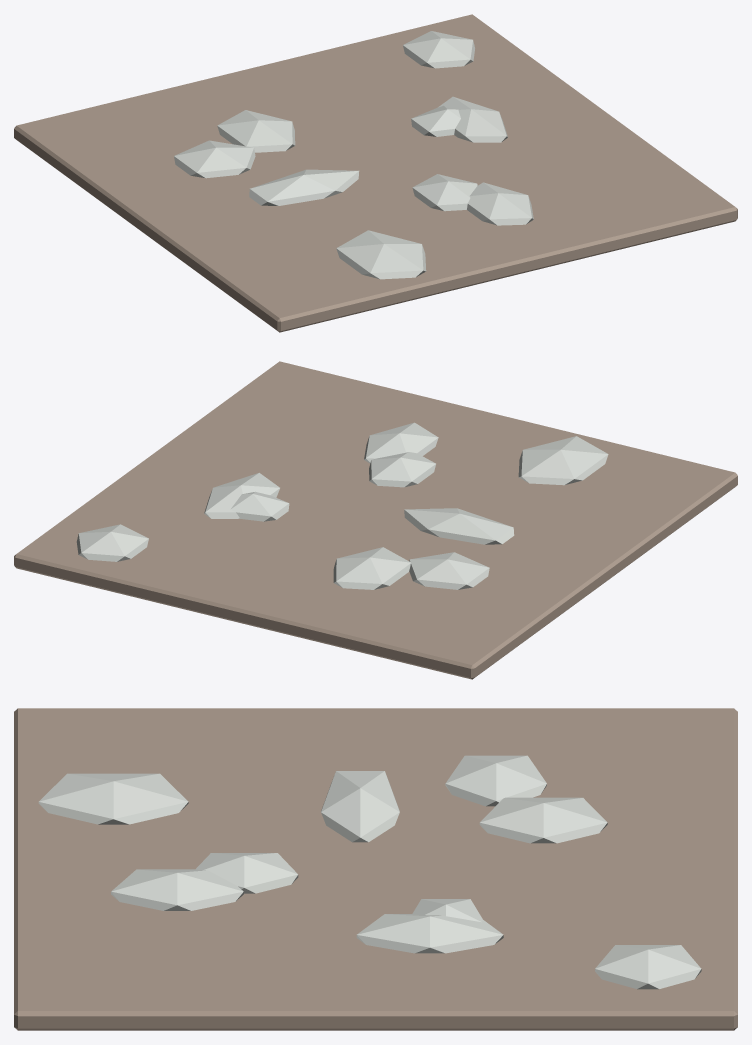
The model's file is road.fbx.
3 renders of one model, top to bottom at view 1: azimuth 30°, elevation 25°; view 2: azimuth 150°, elevation 25°; view 3: azimuth 270°, elevation 25°, orthographic. The views are drawn at different scales.
Parts seen in each view (by area): view 1: road_mesh; view 2: road_mesh; view 3: road_mesh.
Part boxes in pixels (x1,y1,x2,y2): road_mesh: (14,14,737,332); road_mesh: (14,361,737,679); road_mesh: (14,708,737,1030).
Bounding box in the file's own units: 1 × 0.07 × 1.
